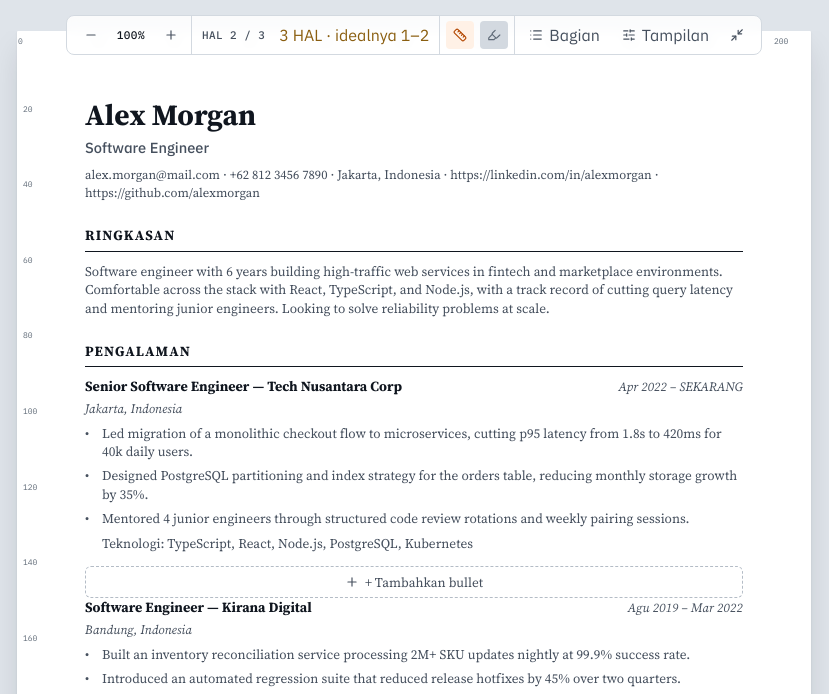
Test: editor in-place di atas kertas (C3.1) › klik segmen: control menggantikan teks segmen, fokus + select isi
This screenshot has width=829, height=694.
Click the button "Alex Morgan" at (171,116), box [85,99,256,133]
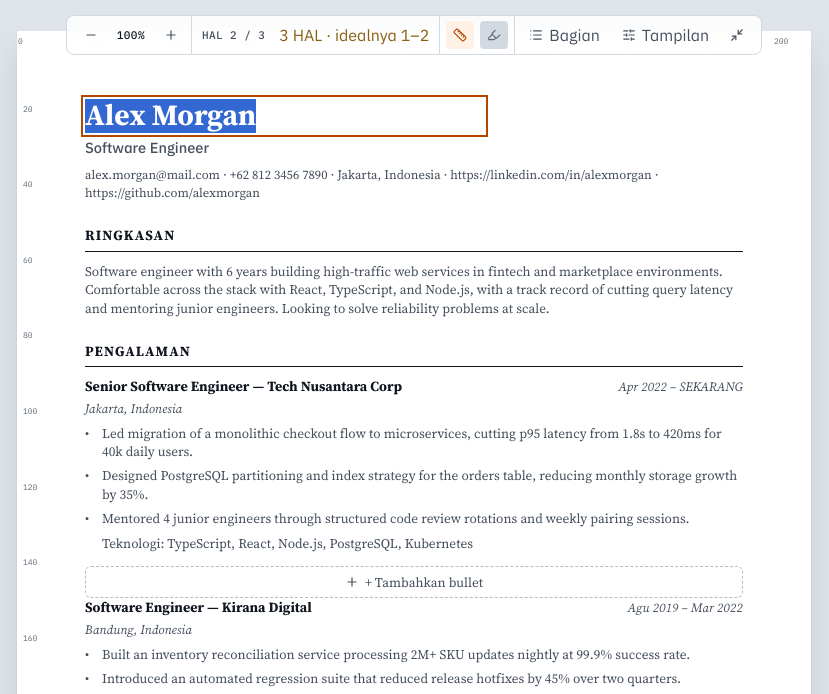
Now the field with class "canvas-editor" holds "Alex Morgan", box [85,99,484,133]
